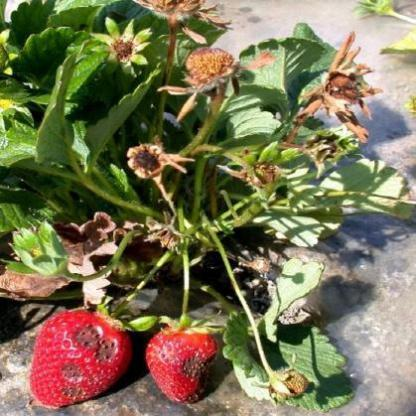Strawberry_Anthracnose_Fruit_Rot: (57, 322, 121, 398), (156, 344, 218, 404)
